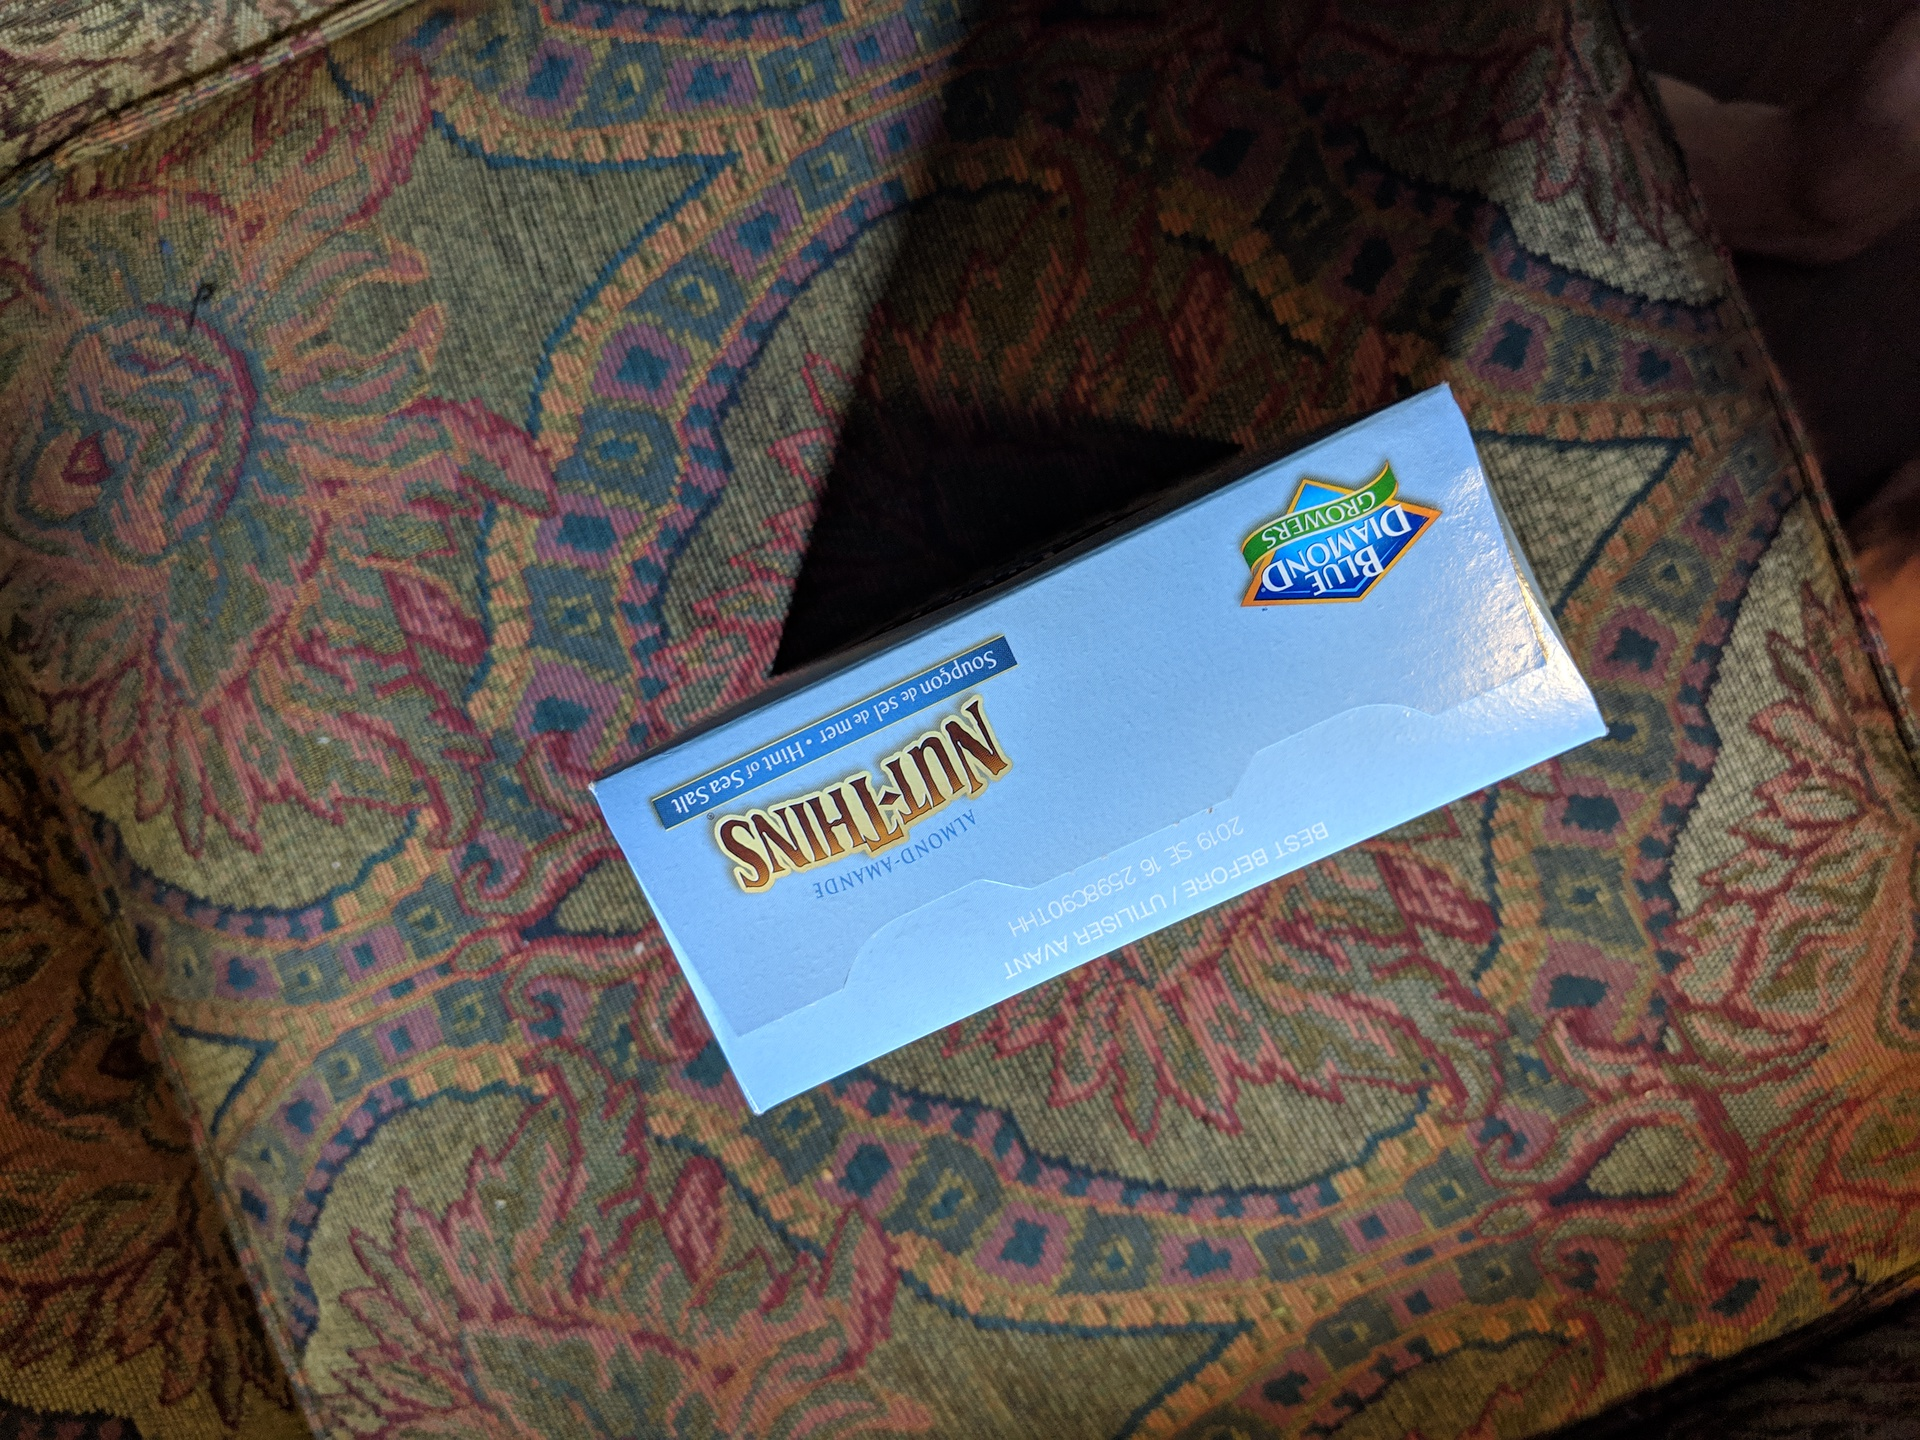blue_diamond_nut_thins_almond_seasalt: (664, 466, 1563, 1050)
